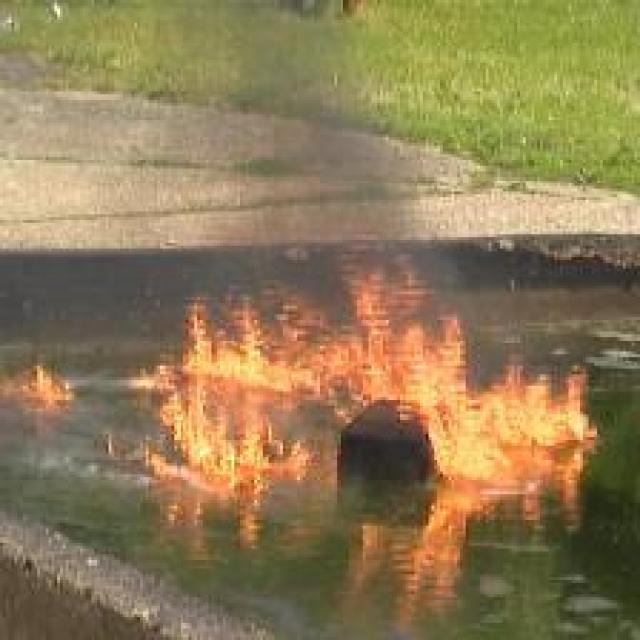fire: (147, 275, 604, 482), (8, 342, 71, 408)
